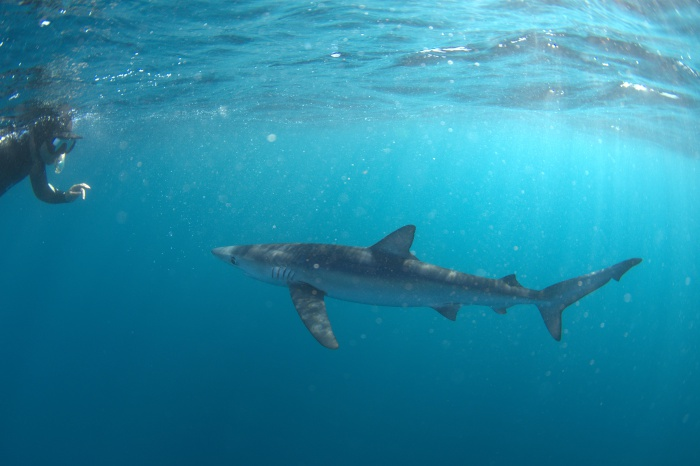Azul: (211, 216, 664, 369)
